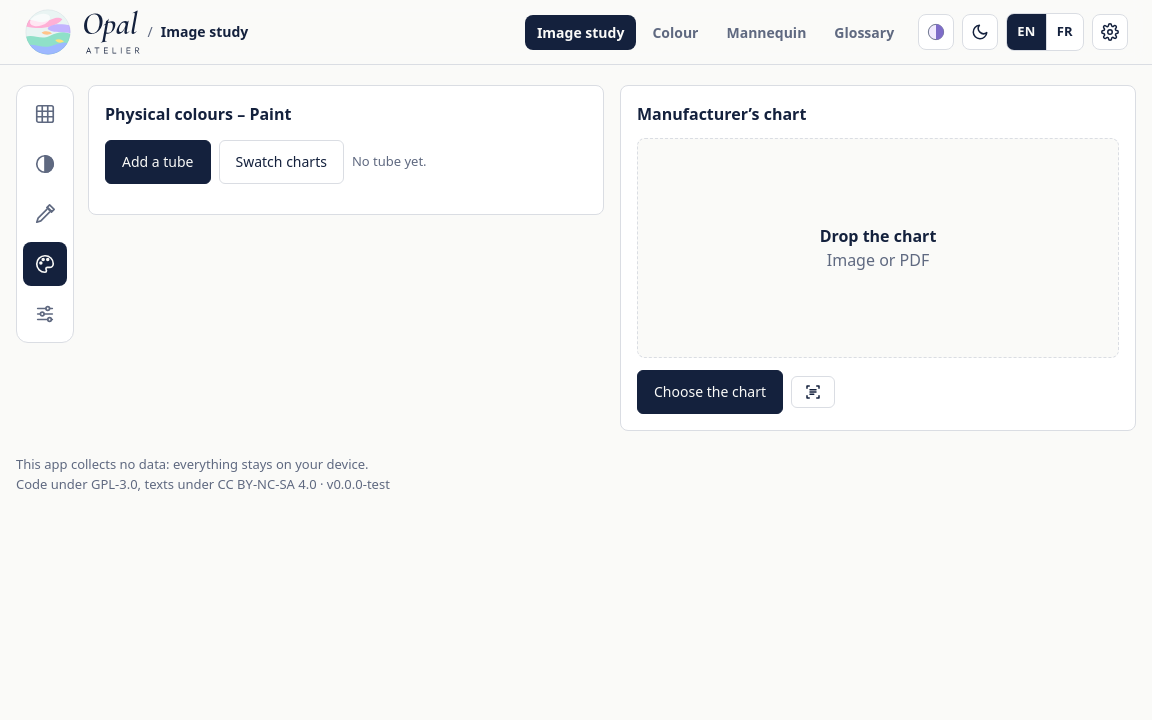
Test: Image study › paints › adds a tube and keeps it
Expected: the text "No tube yet." is shown, [352,152,427,172]
Click the button "Add a tube".
click(158, 162)  # box [105,140,210,184]
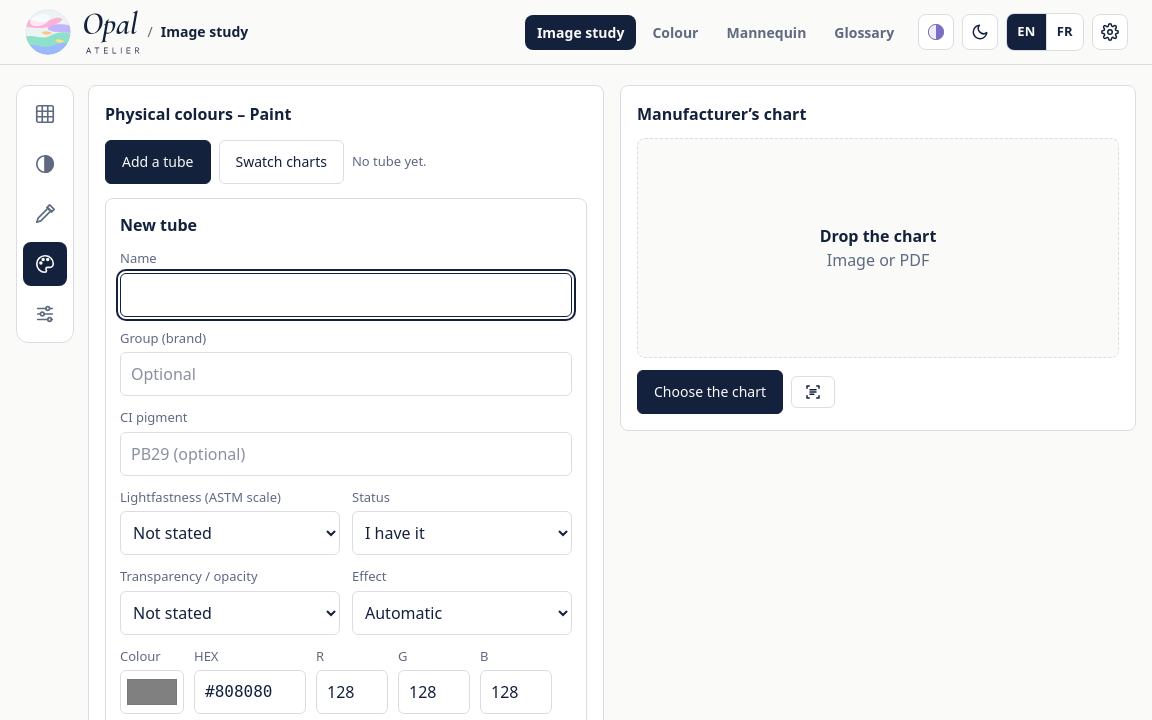
Type "Cobalt blue" into the field labelled "Name".
click(346, 294); type("Cobalt blue")  # box [120,272,572,316]
(page scrolled)
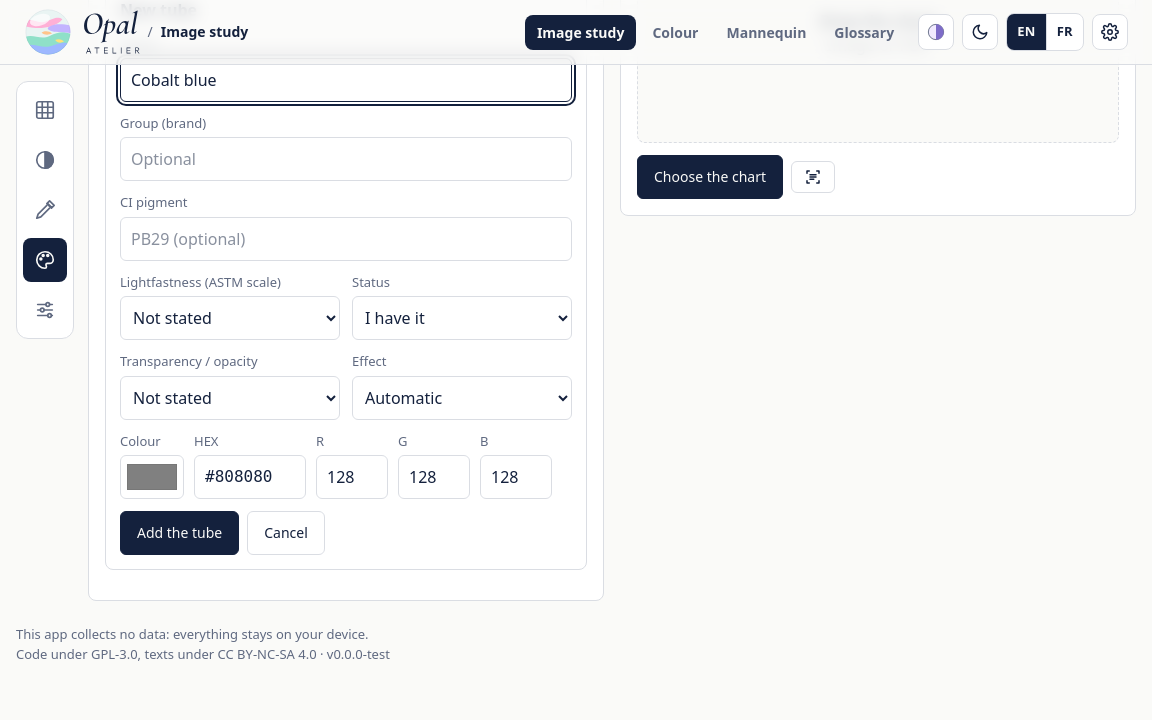
Click the button "Add the tube".
click(180, 533)  # box [120,511,239,555]
(page scrolled)
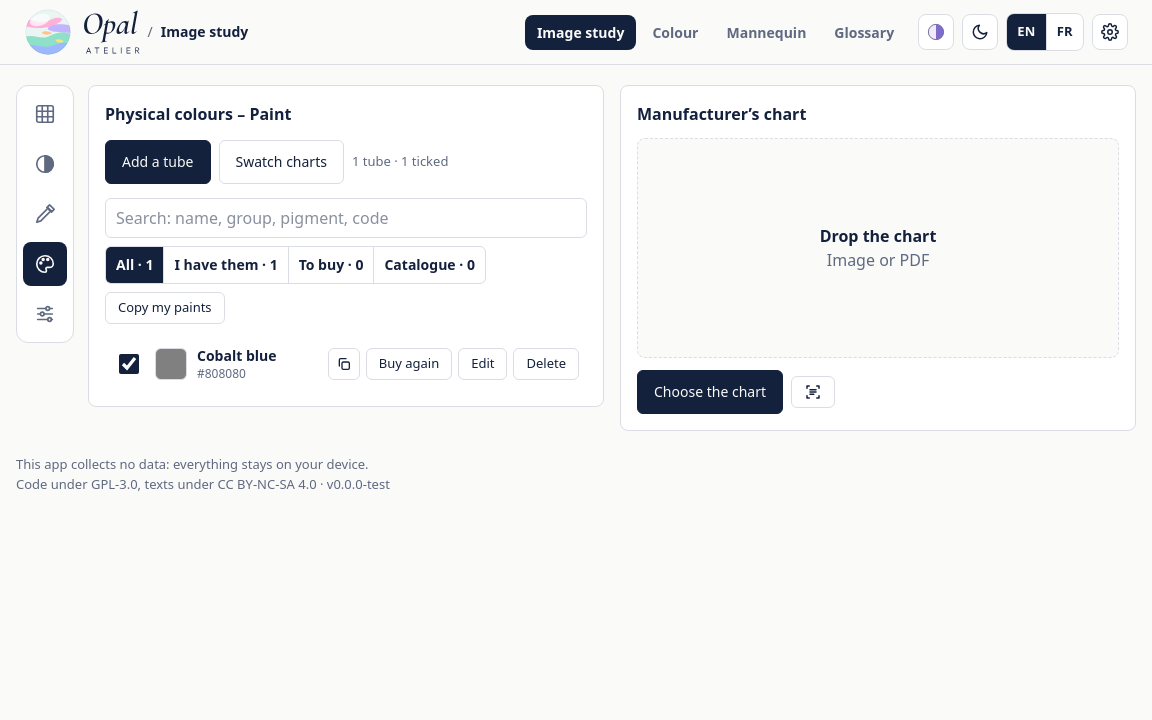
Result: the text "Cobalt blue" is shown at [197,346,276,365]
